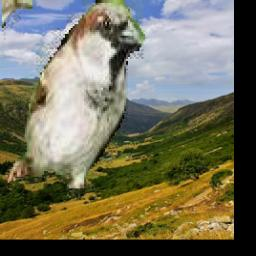Sparrow: (2, 1, 145, 226)
